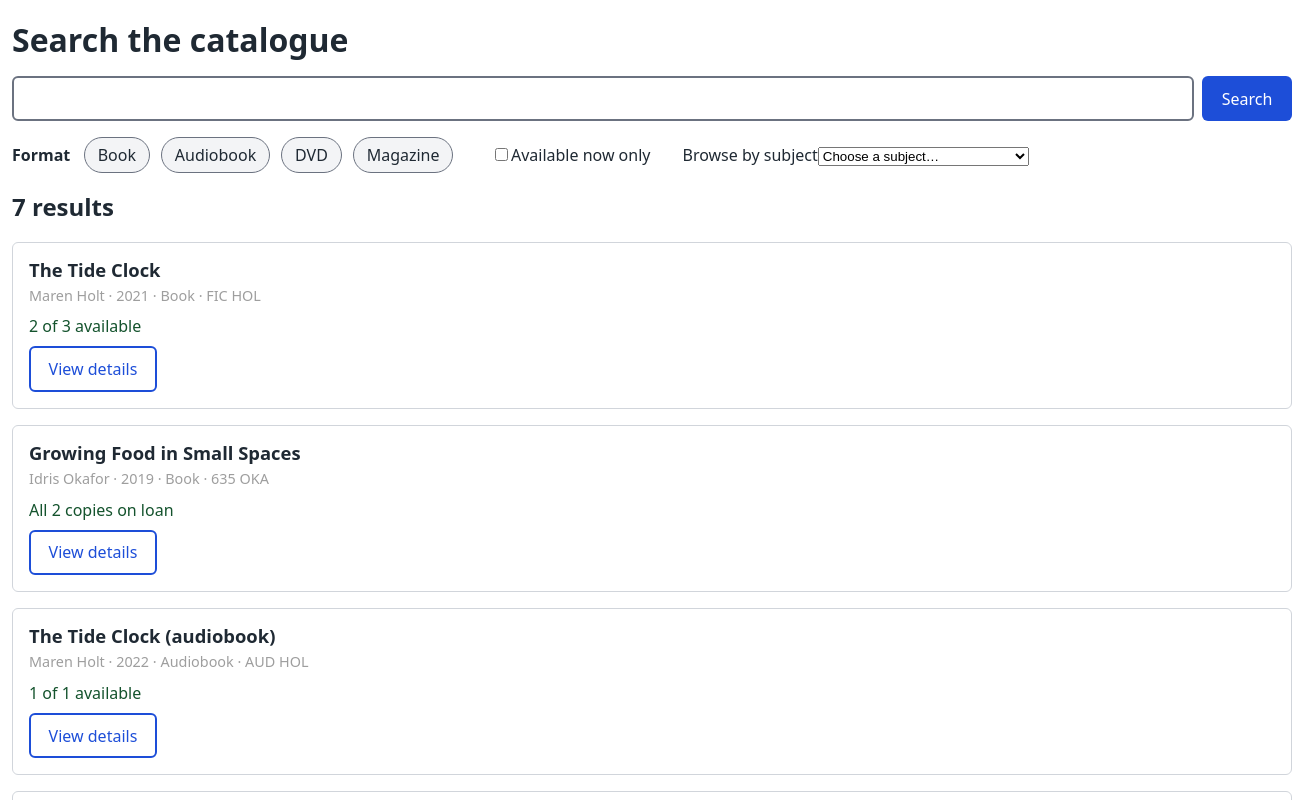
Scenario: SearchPage › narrows to available items and browses by subject
Click the checkbox labelled "Available now only": click(501, 155) [495,148,508,161]
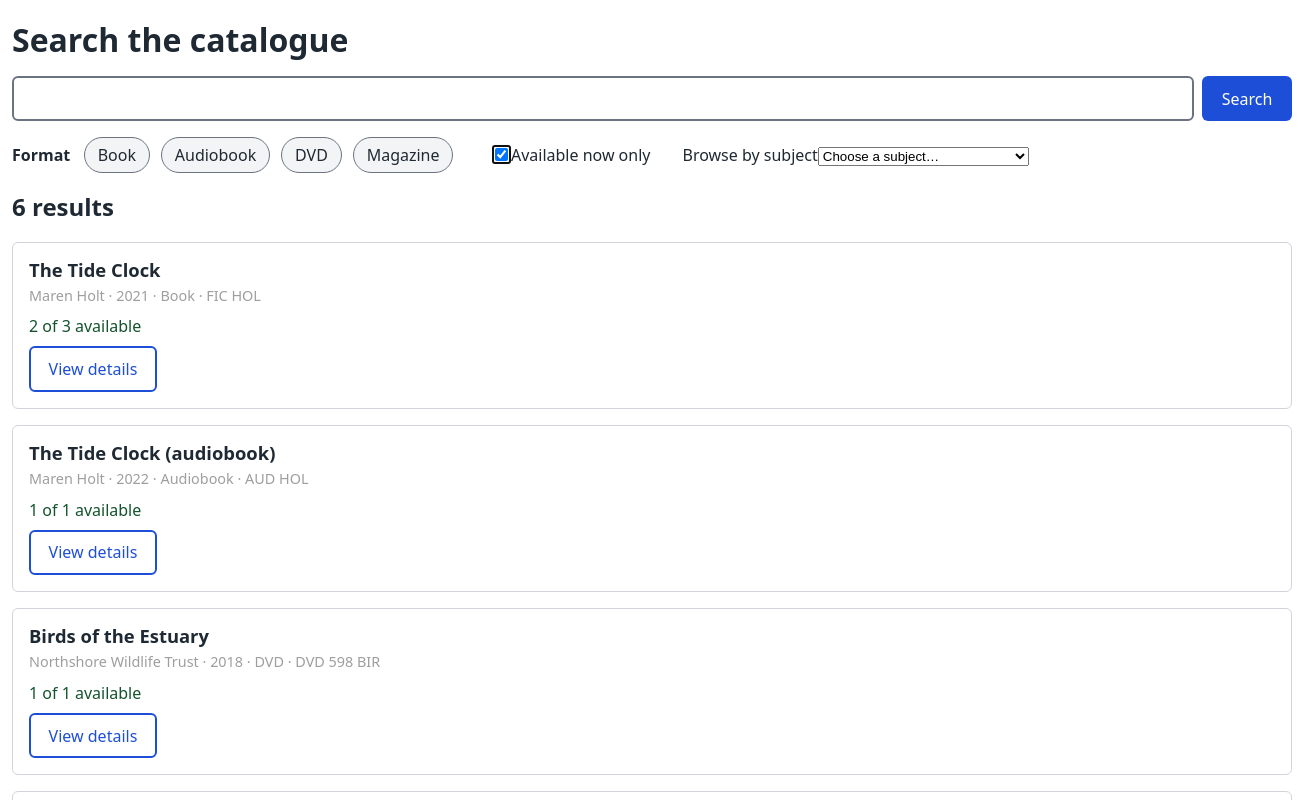
Expected: the heading "6 results" is shown, [12,190,114,223]
Select "Birds" in the dropdown labelled "Browse by subject": (923, 157) [818,147,1029,166]
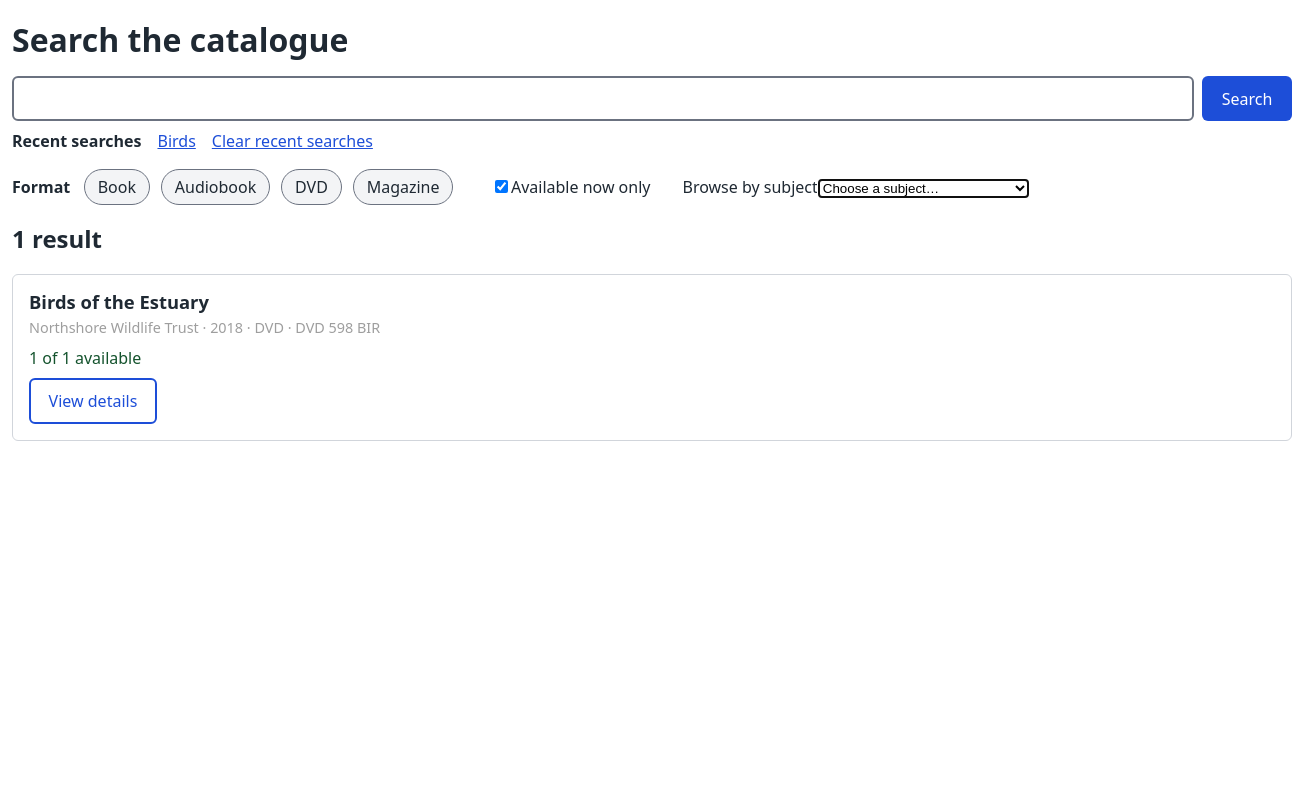
Expected: the heading "1 result" is shown, [12,222,102,255]
